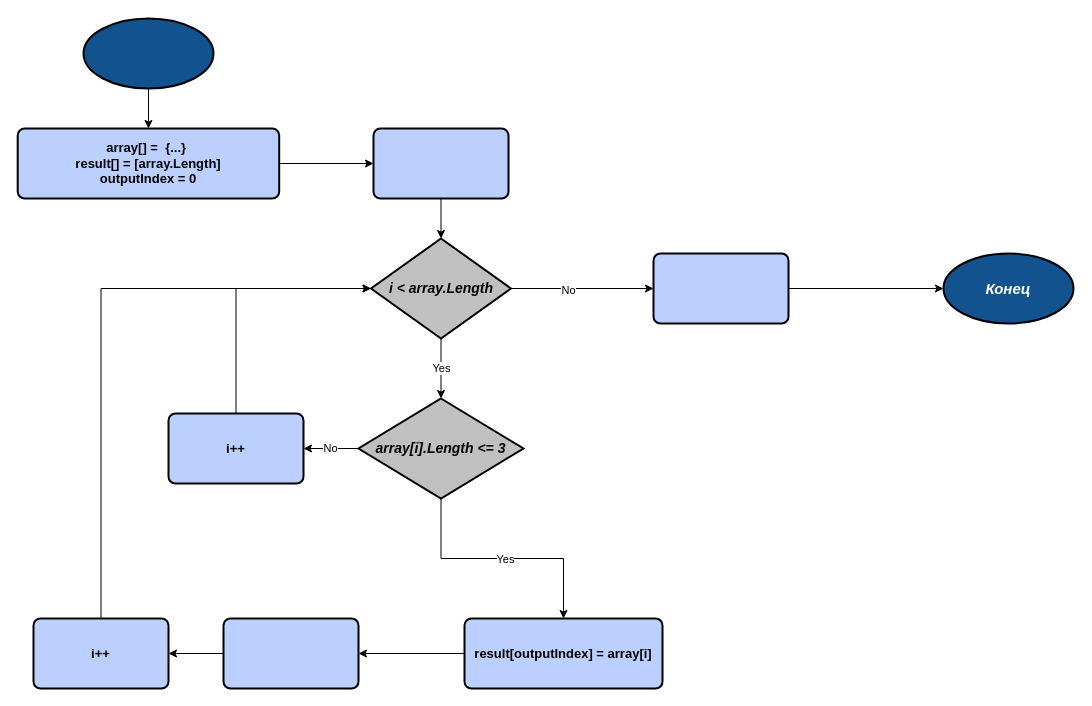
This 1092x706 diagram has some shape labels left out. Here are the shapes that lost their labels. From the top down, the box of each, then its label:
(82, 17, 214, 89): Начало
(372, 127, 509, 199): i = 0
(652, 252, 789, 324): print(result)
(222, 617, 359, 689): outputIndex++
